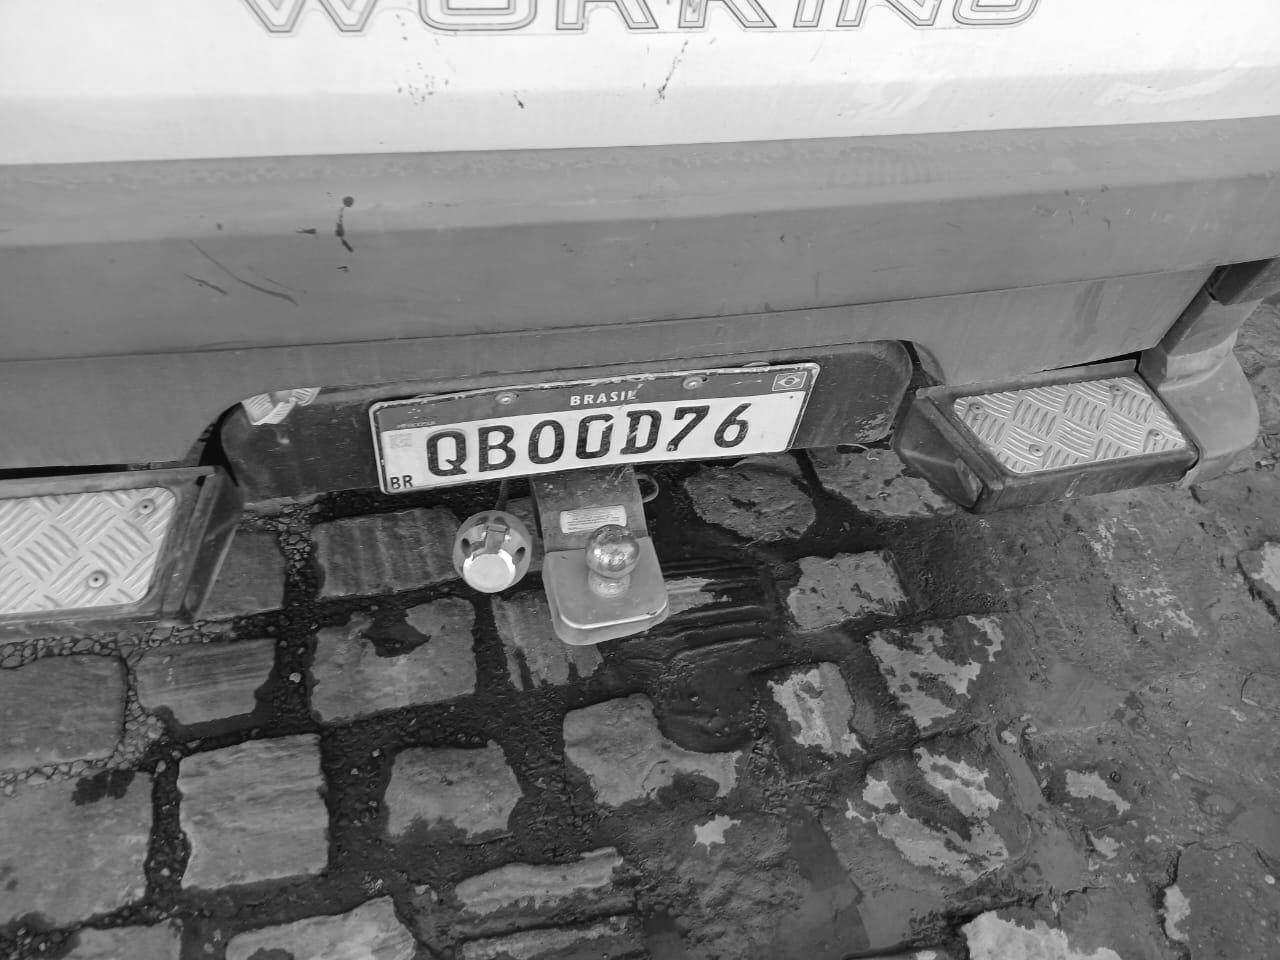placa_mercosul: (370, 363, 820, 493)
